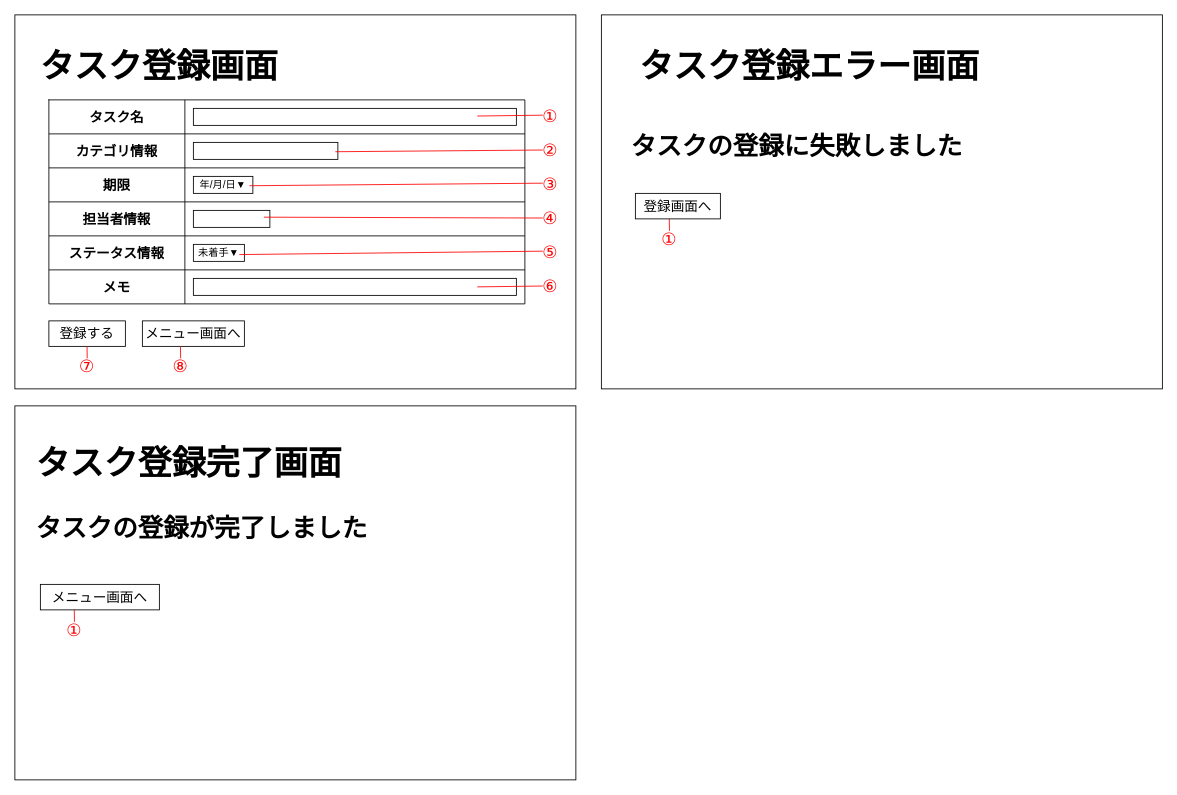
Some shapes in this 1177 by 795 pixel diagram are drawn without their labels. Each missing label, with the centre of its shape:
"新商品A：開発プロジェクト▼" goes at point 265,150.
"本位田順也▼" goes at point 231,218.
